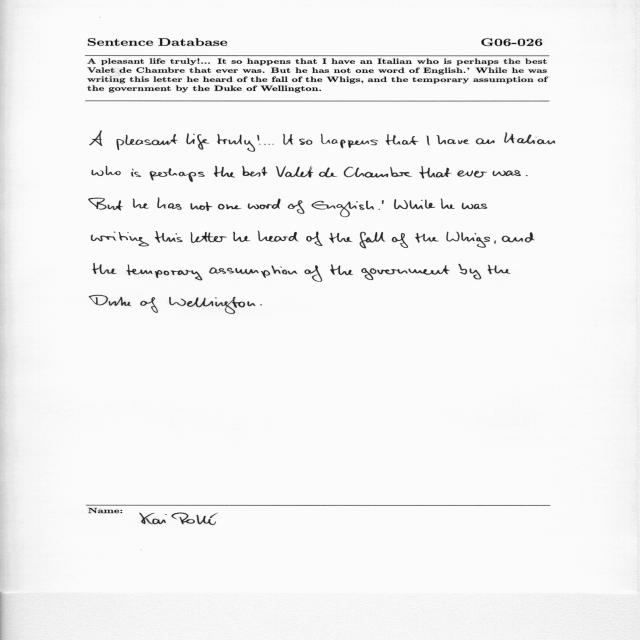word: (169, 297, 256, 314), (361, 265, 450, 280), (210, 265, 298, 278), (127, 265, 203, 280), (311, 201, 374, 217), (116, 134, 178, 150), (91, 232, 149, 247), (321, 134, 378, 148), (150, 168, 205, 182), (344, 167, 412, 178), (446, 232, 490, 248), (217, 134, 255, 152), (504, 133, 556, 145), (89, 295, 131, 306), (88, 198, 123, 211), (258, 231, 299, 242), (419, 166, 452, 179), (360, 232, 385, 249), (394, 199, 435, 209), (276, 166, 313, 177), (190, 232, 227, 243), (187, 133, 210, 150), (386, 134, 419, 145), (502, 232, 535, 243), (458, 264, 481, 279), (155, 231, 183, 243), (248, 199, 280, 209), (305, 265, 323, 282), (157, 198, 182, 210), (92, 166, 121, 176), (437, 135, 469, 144), (140, 297, 158, 313), (242, 166, 268, 177), (93, 263, 117, 274), (330, 265, 353, 276), (329, 233, 353, 243), (392, 233, 408, 248), (415, 233, 439, 243), (288, 200, 305, 214), (306, 232, 323, 246), (214, 166, 235, 177), (457, 171, 487, 178), (488, 265, 511, 274), (191, 202, 213, 211), (90, 131, 102, 146), (319, 168, 337, 178), (233, 232, 251, 242), (493, 170, 521, 176), (133, 199, 149, 209), (441, 198, 455, 209), (462, 203, 487, 209), (218, 204, 242, 210), (283, 134, 293, 145), (476, 139, 494, 145), (131, 168, 141, 177), (300, 139, 313, 145), (257, 135, 261, 145), (426, 136, 430, 146), (264, 144, 274, 145), (382, 200, 384, 204), (494, 240, 496, 244), (526, 175, 528, 176), (378, 209, 380, 210), (260, 305, 262, 306)
